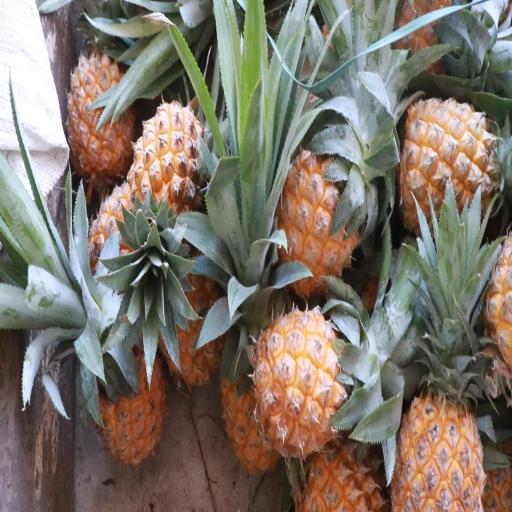Pineapple - v8 v1: (388, 279, 485, 510), (250, 299, 355, 469), (395, 93, 500, 244), (270, 130, 364, 298), (87, 290, 171, 476), (158, 228, 236, 403), (289, 388, 392, 512), (127, 96, 215, 233), (64, 44, 140, 186)
